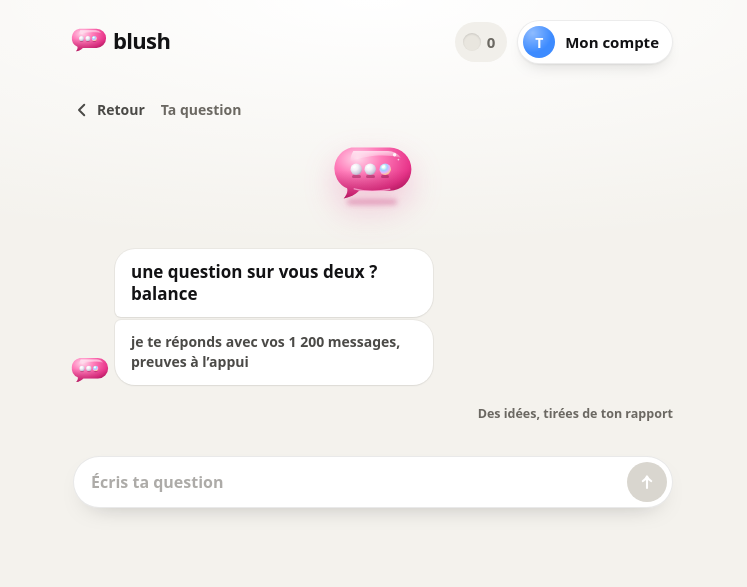
it: à 0 bulle › un autre souci (le réseau) s’efface quand on réécrit, sans recharge
Type "et là ?" into the text box named "Ta question à BLUSH" at [355, 482], box [91,462,619,502]
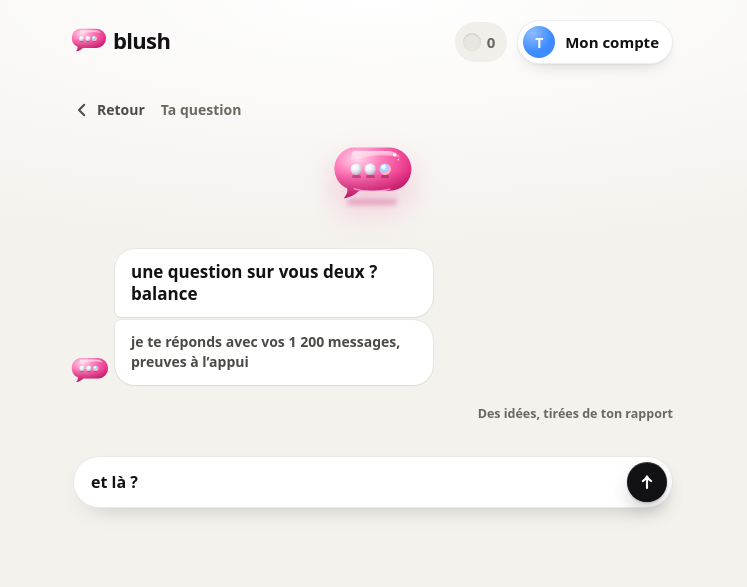
Click the button named "Poser ma question" at [647, 482], box [627,462,667,502]
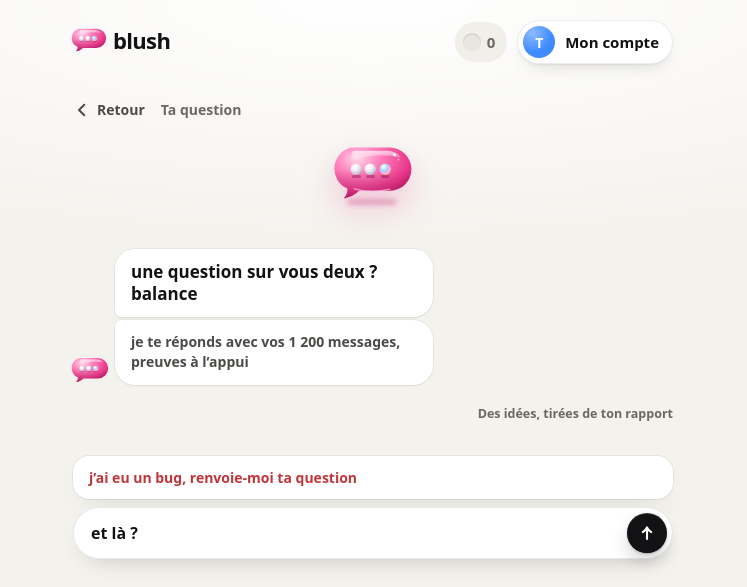
Replace the text in the text box named "Ta question à BLUSH" with "et là, alors ?" at [355, 533], box [91,513,619,553]
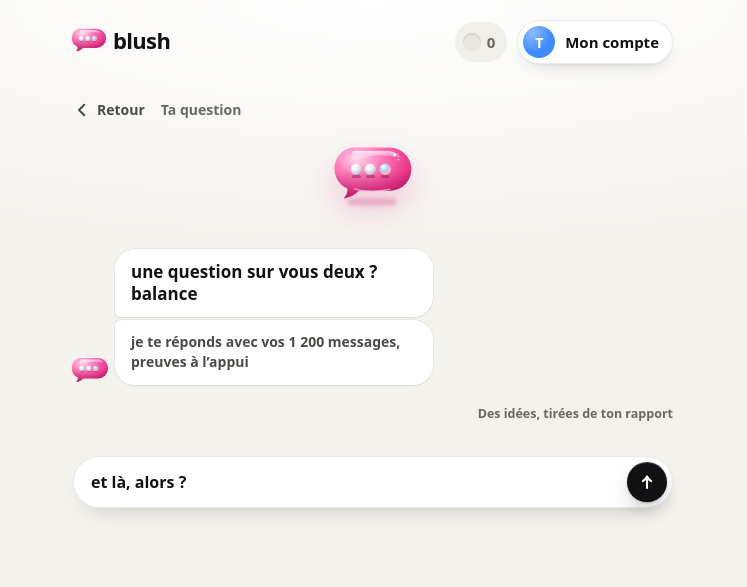
Check: the message "j’ai eu un bug, renvoie-moi ta question" is gone
